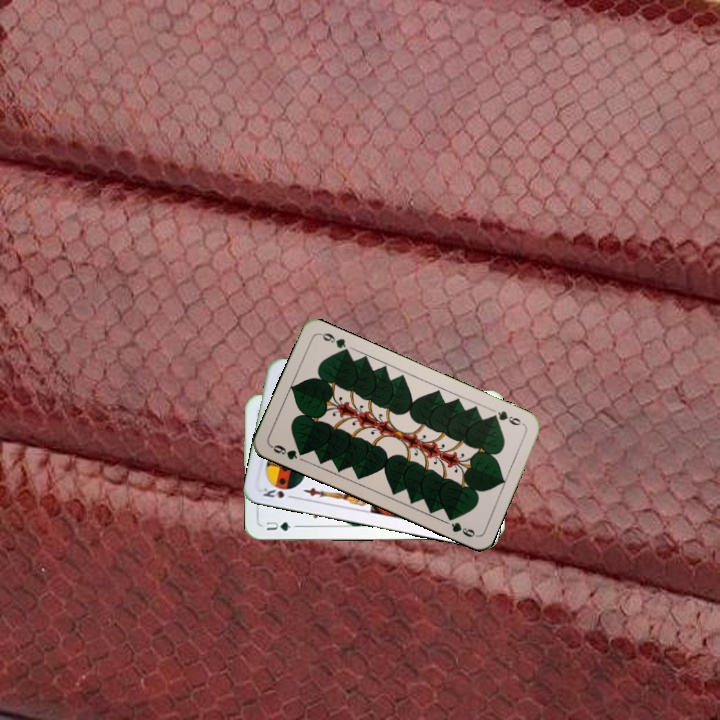G9: (267, 441, 308, 462), (487, 407, 527, 428)
GU: (262, 518, 300, 533)
SK: (259, 482, 298, 501)
